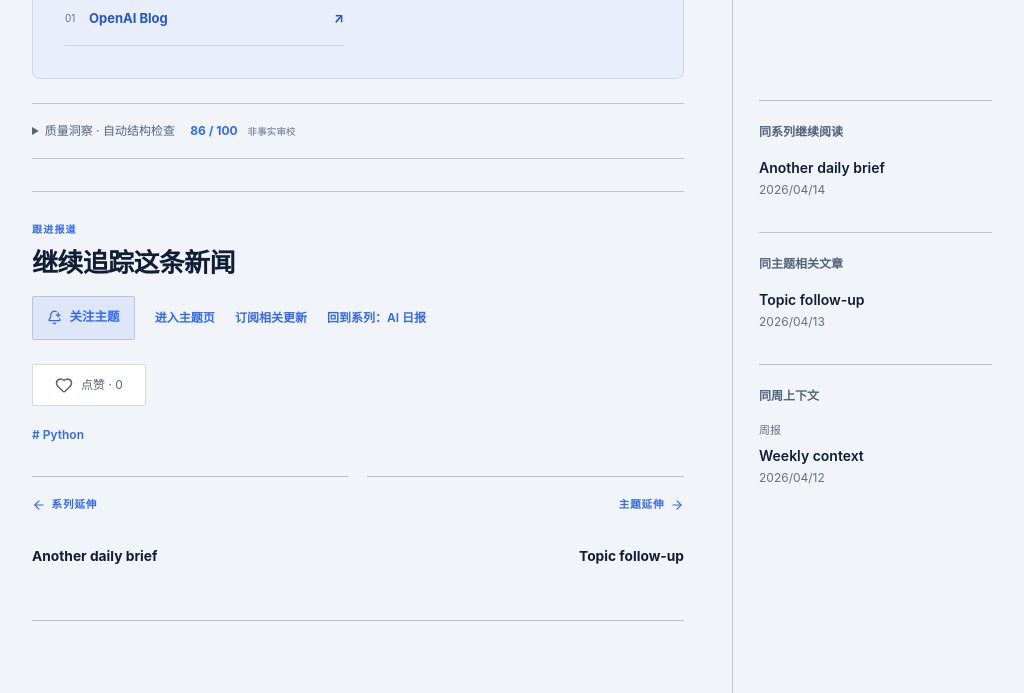
Test: persists and reflects a successful like
The width and height of the screenshot is (1024, 693).
(page scrolled)
Click the button "点赞 · 0". click: (89, 385)
box: top-left (32, 364), bottom-right (146, 406)
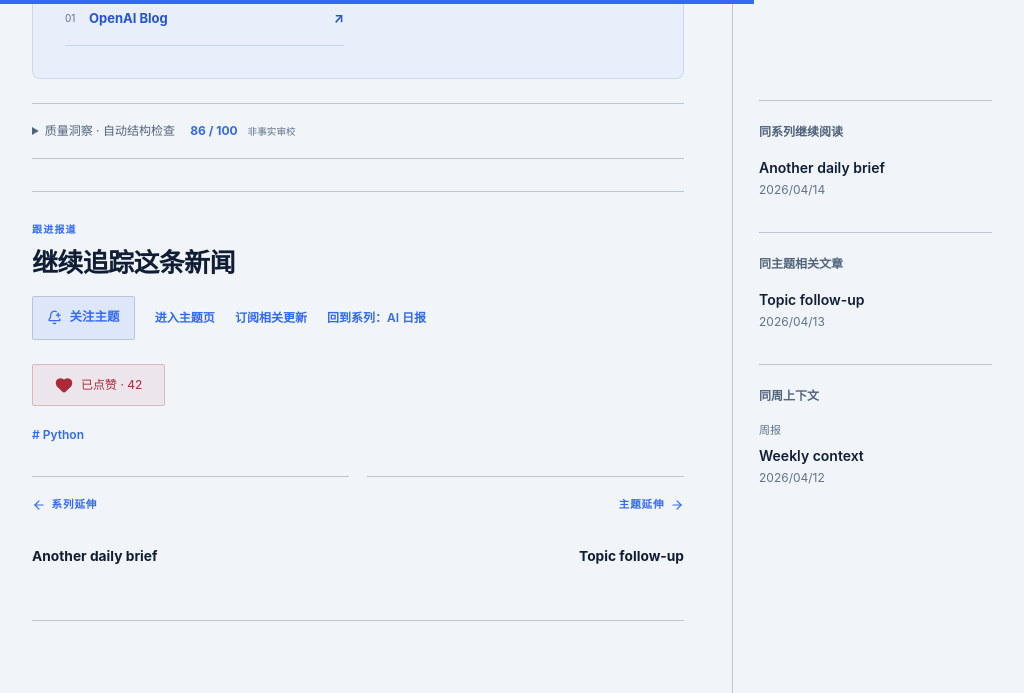
Expected: the button "已点赞 · 42" is shown, top-left (32, 364), bottom-right (165, 406)
